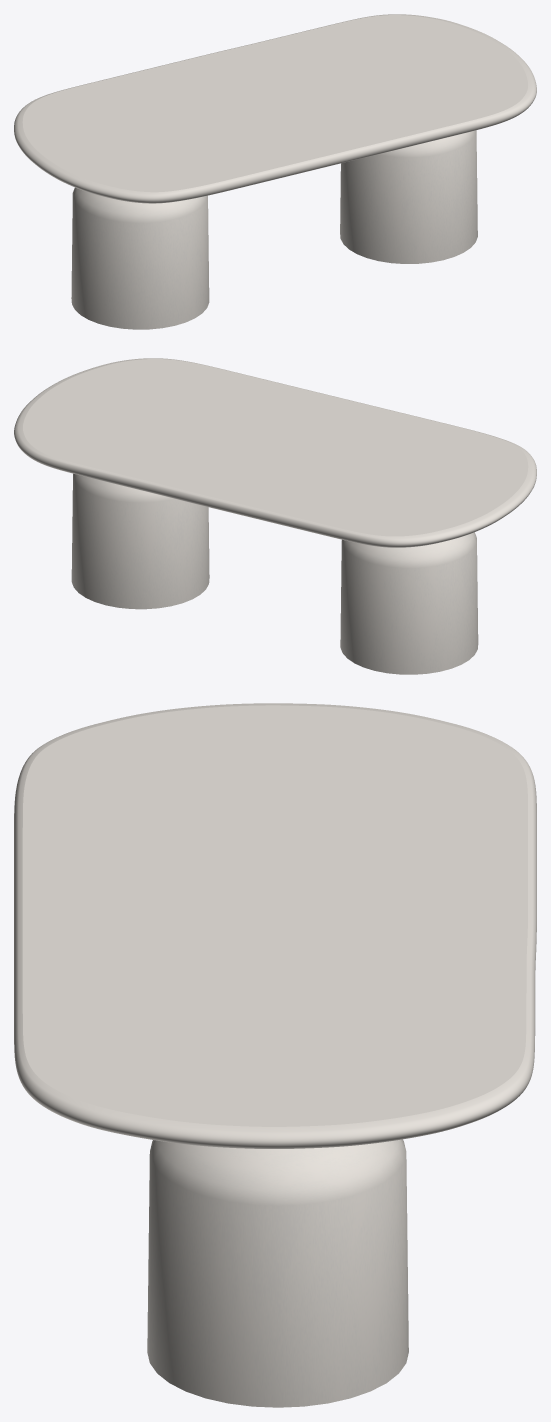
Rendered from pearlwhite_oval_round_tornado.glb.
3 renders of one model, top to bottom at view 1: azimuth 30°, elevation 25°; view 2: azimuth 150°, elevation 25°; view 3: azimuth 270°, elevation 25°, orthographic. The views are drawn at different scales.
Parts seen in each view (by area): view 1: round_oval, tornado; view 2: round_oval, tornado; view 3: round_oval, tornado.
Part boxes in pixels (left/top/right/bottom): round_oval: left=14, top=14, right=536, bottom=203; tornado: left=71, top=130, right=477, bottom=329; round_oval: left=14, top=358, right=536, bottom=547; tornado: left=71, top=473, right=478, bottom=674; round_oval: left=14, top=703, right=536, bottom=1148; tornado: left=147, top=1139, right=408, bottom=1407.
Size of the model in its own units: 7.5 by 2.5 by 3.8.
Materials: 1 (1 with a texture image).
